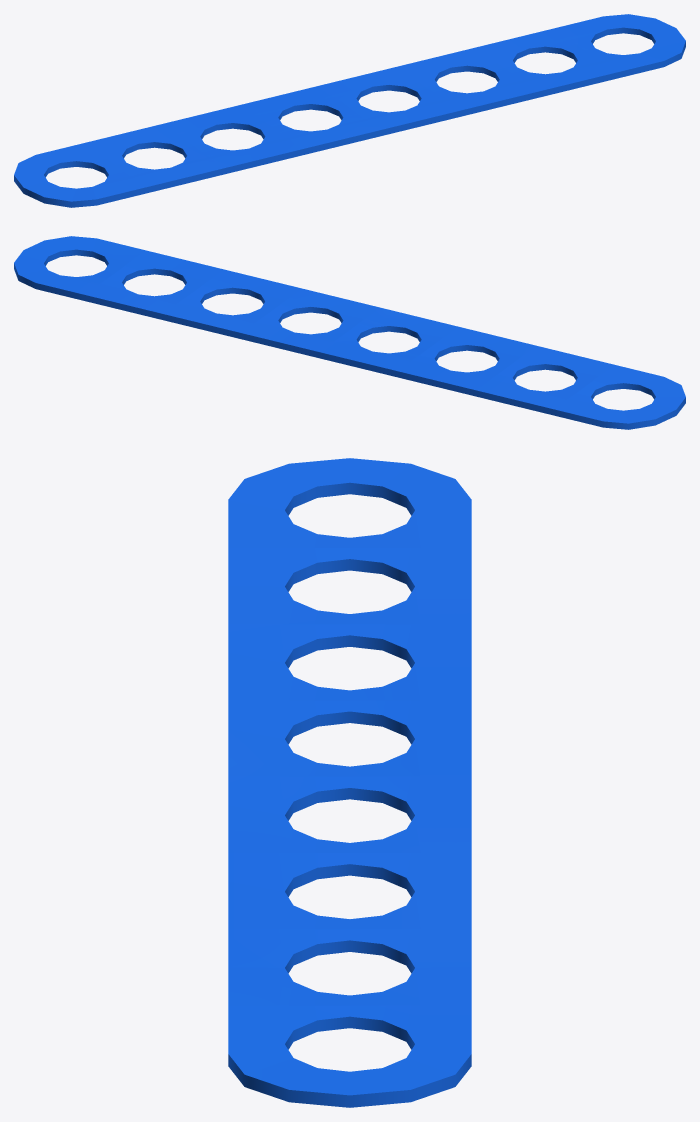
Rendered from EightLongBlue.fbx.
3 views of the same model, one above another, from view 1: azimuth 30°, elevation 25°; view 2: azimuth 150°, elevation 25°; view 3: azimuth 270°, elevation 25° (orthographic). The views are drawn at different scales.
Visible parts, largest first — view 1: Blue8; view 2: Blue8; view 3: Blue8.
Boxes of the visible parts, x1=… form: Blue8: x1=14, y1=14, x2=685, y2=207; Blue8: x1=14, y1=236, x2=685, y2=429; Blue8: x1=228, y1=458, x2=471, y2=1107.
Size of the model in its own units: 21.36 by 0.1942 by 3.45.
